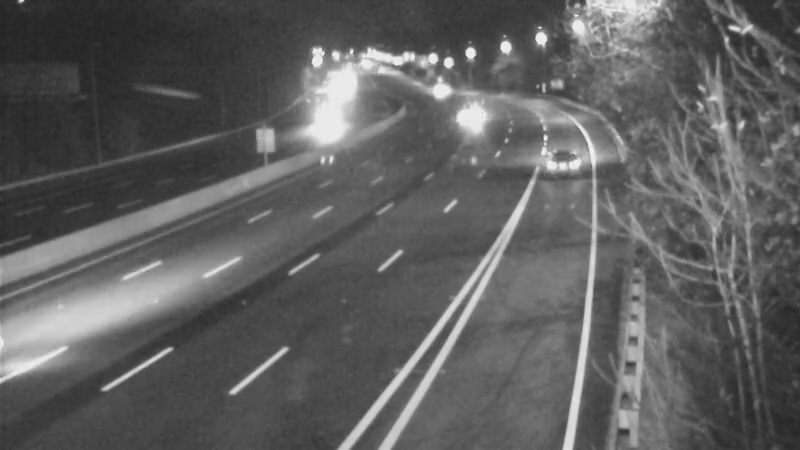vehicle: (524, 117, 604, 197), (409, 66, 459, 116), (445, 93, 495, 143), (296, 96, 346, 146)
